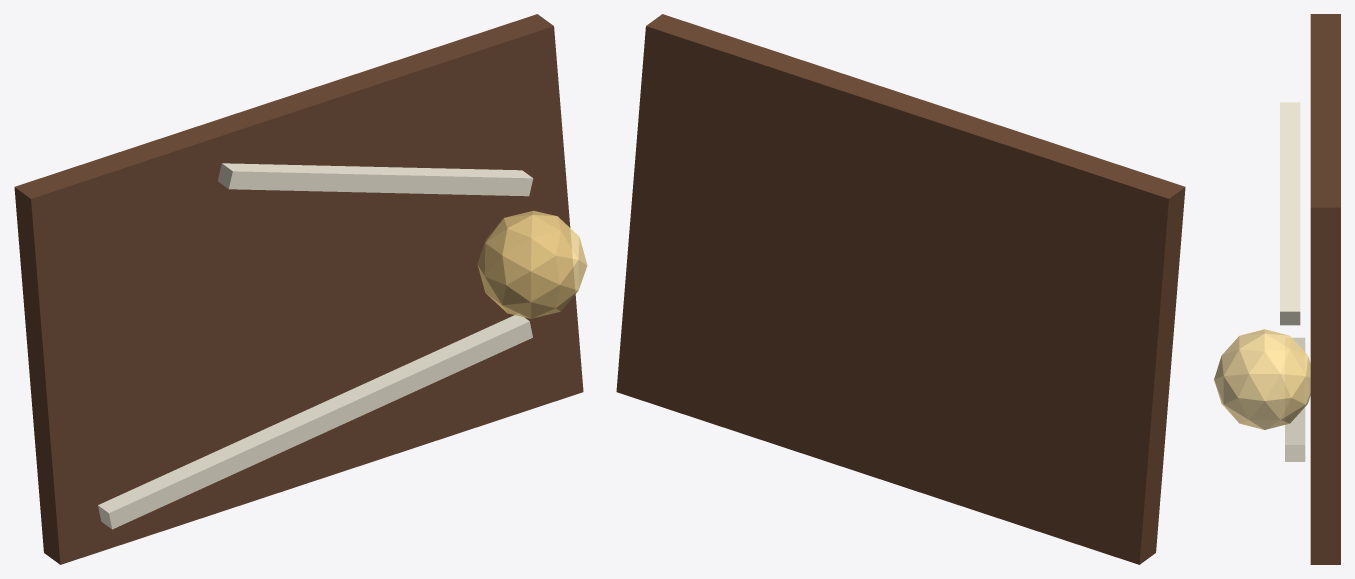
The model's file is 02_world_prop_polish.glb.
3 renders of one model, left to right at view 1: azimuth 30°, elevation 25°; view 2: azimuth 150°, elevation 25°; view 3: azimuth 270°, elevation 25°, orthographic. The views are drawn at different scales.
Parts seen in each view (by area): view 1: object_overlay_plate, edge_wear_a, glow_socket, edge_wear_b; view 2: object_overlay_plate; view 3: object_overlay_plate, glow_socket, edge_wear_b, edge_wear_a.
Part boxes in pixels (box(x1,y1,x2,y2)): object_overlay_plate: box(14, 14, 583, 564); edge_wear_a: box(98, 314, 532, 529); glow_socket: box(477, 210, 587, 318); edge_wear_b: box(218, 163, 533, 196); object_overlay_plate: box(616, 14, 1185, 564); object_overlay_plate: box(1310, 14, 1340, 564); glow_socket: box(1214, 329, 1310, 429); edge_wear_b: box(1280, 102, 1300, 325); edge_wear_a: box(1285, 337, 1305, 461).
Size of the model in its own units: 1.16 by 0.8381 by 0.25.
